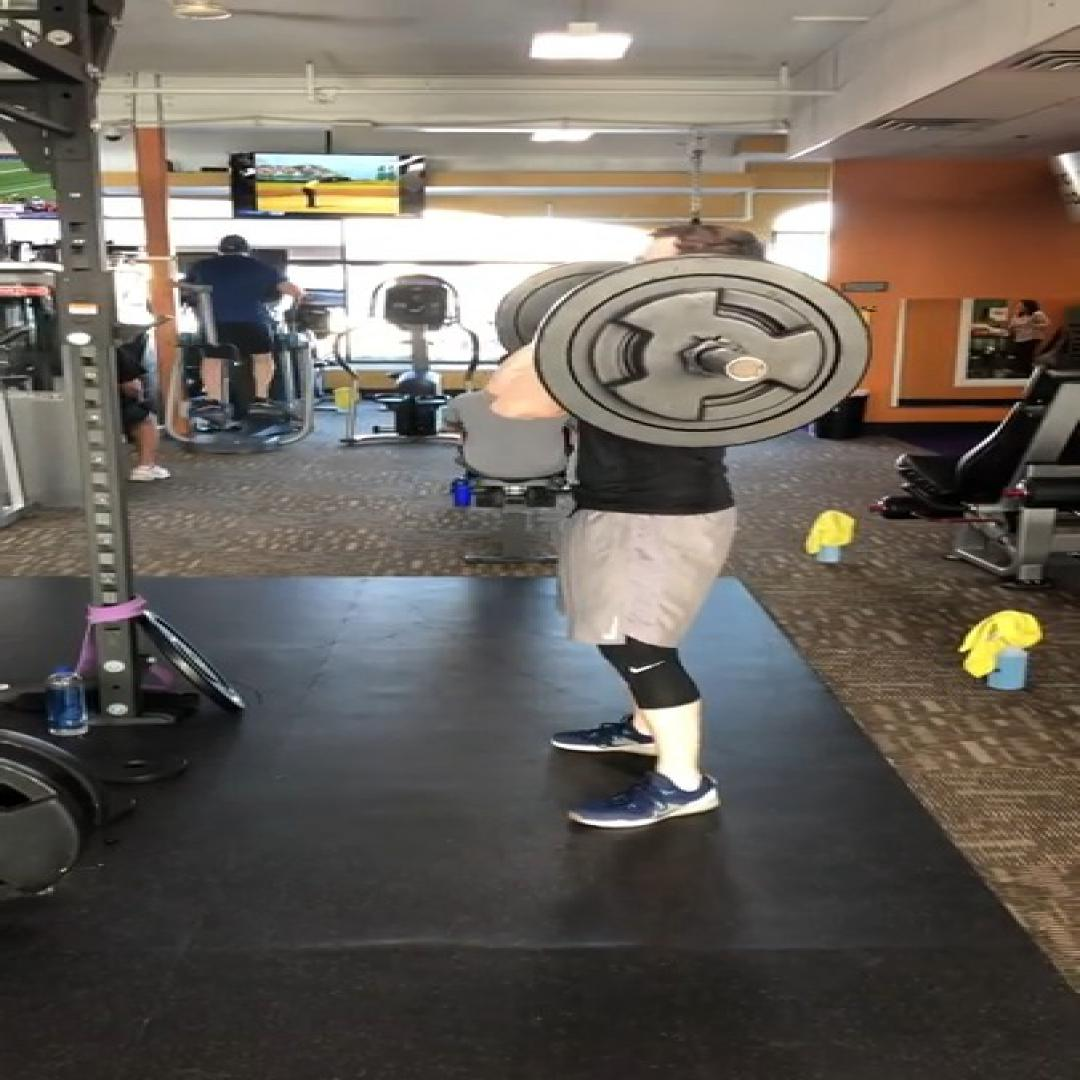Bar: (726, 357, 766, 381)
Barbell: (535, 257, 870, 447)
